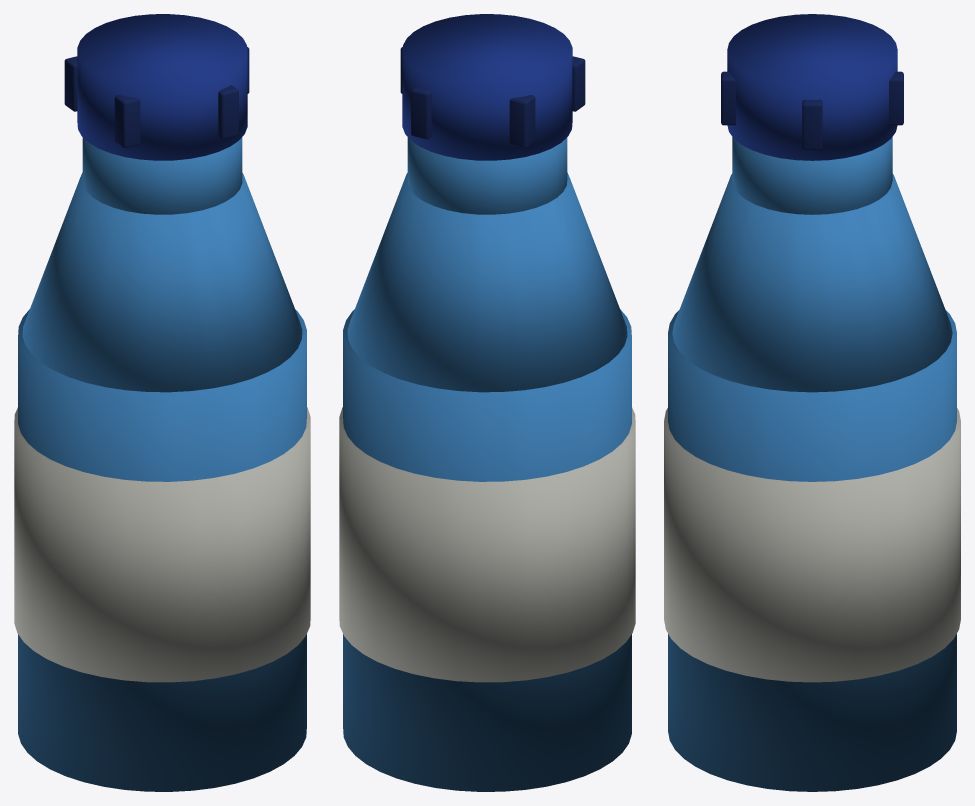
The model's file is water-bottle.obj.
3 renders of one model, left to right at view 1: azimuth 30°, elevation 25°; view 2: azimuth 150°, elevation 25°; view 3: azimuth 270°, elevation 25°, orthographic.
Parts seen in each view (by area): view 1: water-bottle; view 2: water-bottle; view 3: water-bottle.
Part boxes in pixels (x1,y1,x2,y2): water-bottle: (14, 14, 310, 791); water-bottle: (339, 14, 635, 791); water-bottle: (664, 14, 960, 791).
Bounding box in the file's own units: 0.115 × 0.291 × 0.115.
